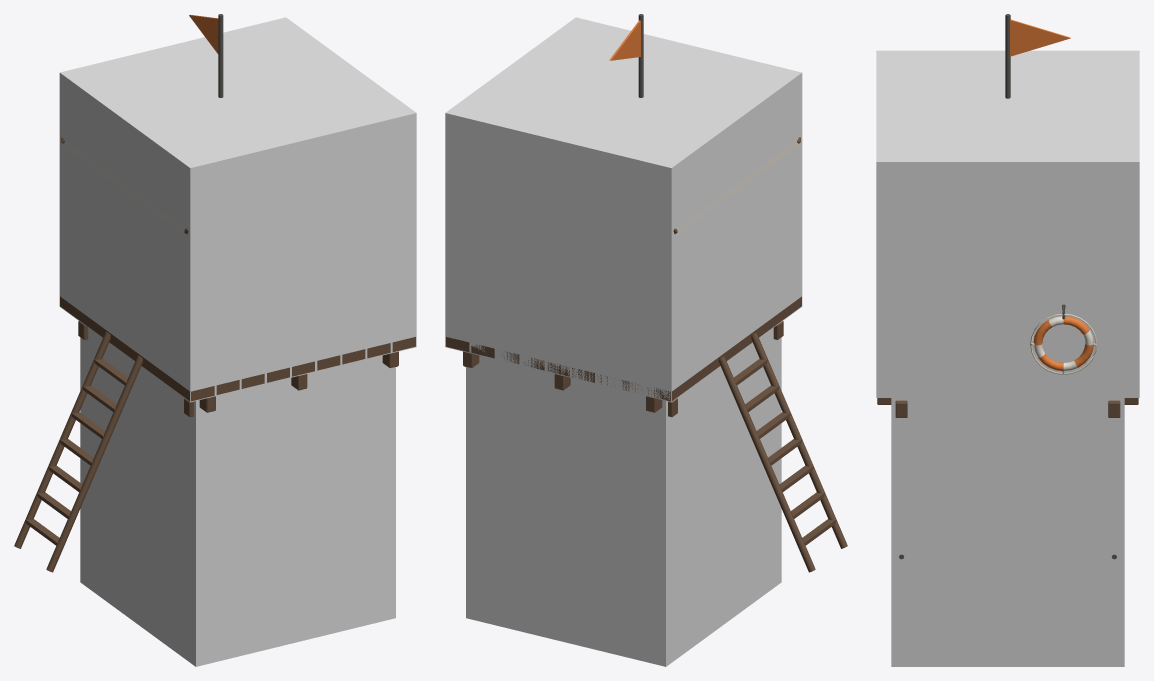
The picture shows the model from 3 angles, left to right: view 1: azimuth 30°, elevation 25°; view 2: azimuth 150°, elevation 25°; view 3: azimuth 270°, elevation 25°; orthographic projection.
Parts seen in each view (by area): view 1: col_hut, col_piles, T11_body; view 2: col_hut, col_piles, T11_body; view 3: col_hut, col_piles, T11_body.
Boxes of the visible parts, x1=… form: col_hut: x1=59, y1=17, x2=416, y2=402; col_piles: x1=80, y1=328, x2=395, y2=666; T11_body: x1=14, y1=14, x2=415, y2=572; col_hut: x1=445, y1=17, x2=802, y2=402; col_piles: x1=466, y1=328, x2=781, y2=666; T11_body: x1=446, y1=14, x2=847, y2=572; col_hut: x1=876, y1=50, x2=1139, y2=397; col_piles: x1=891, y1=398, x2=1124, y2=666; T11_body: x1=877, y1=14, x2=1138, y2=559.
Size of the model in its own units: 3.77 by 6.47 by 2.6.
